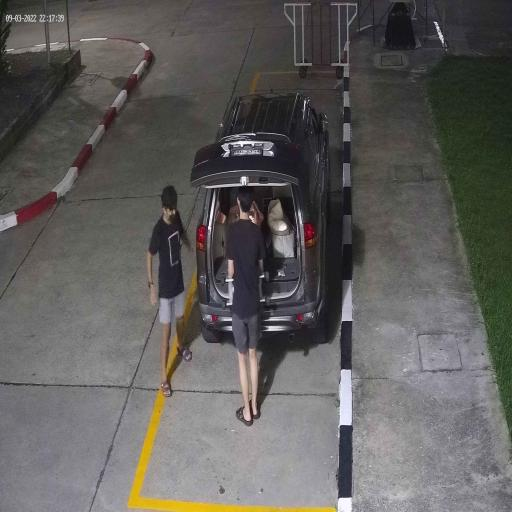car: (195, 91, 331, 345)
